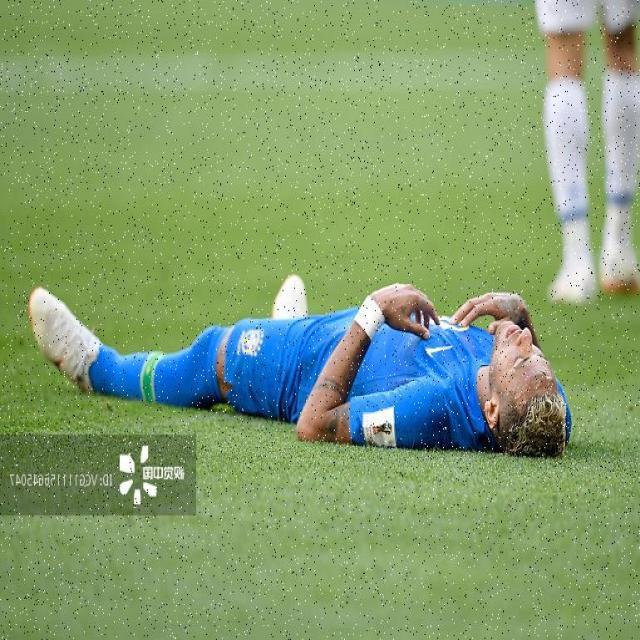fall: (39, 227, 571, 463)
